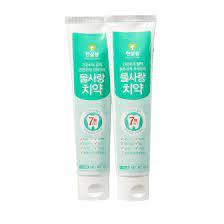toothpaste: (62, 12, 118, 206), (106, 10, 154, 201)
